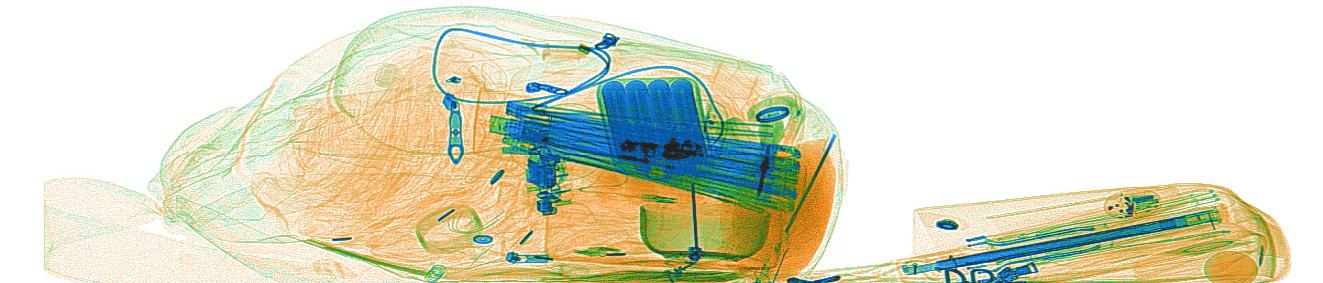battery: (594, 73, 717, 178)
